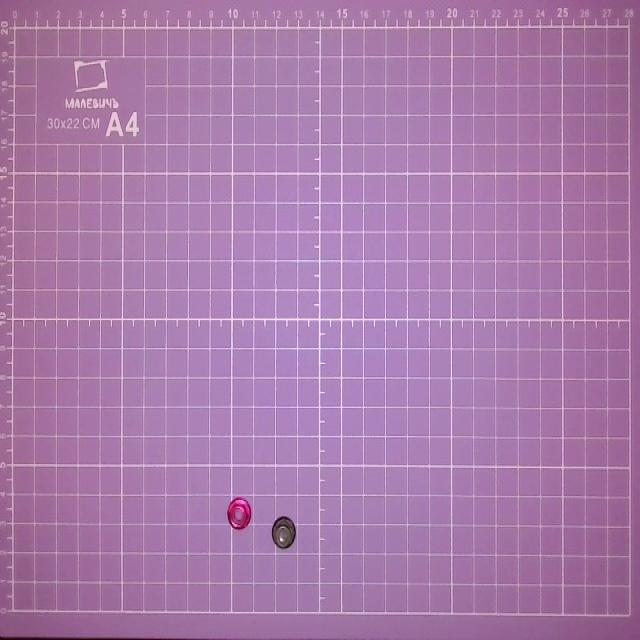screw_M5: (272, 514, 300, 551), (228, 493, 252, 530)
